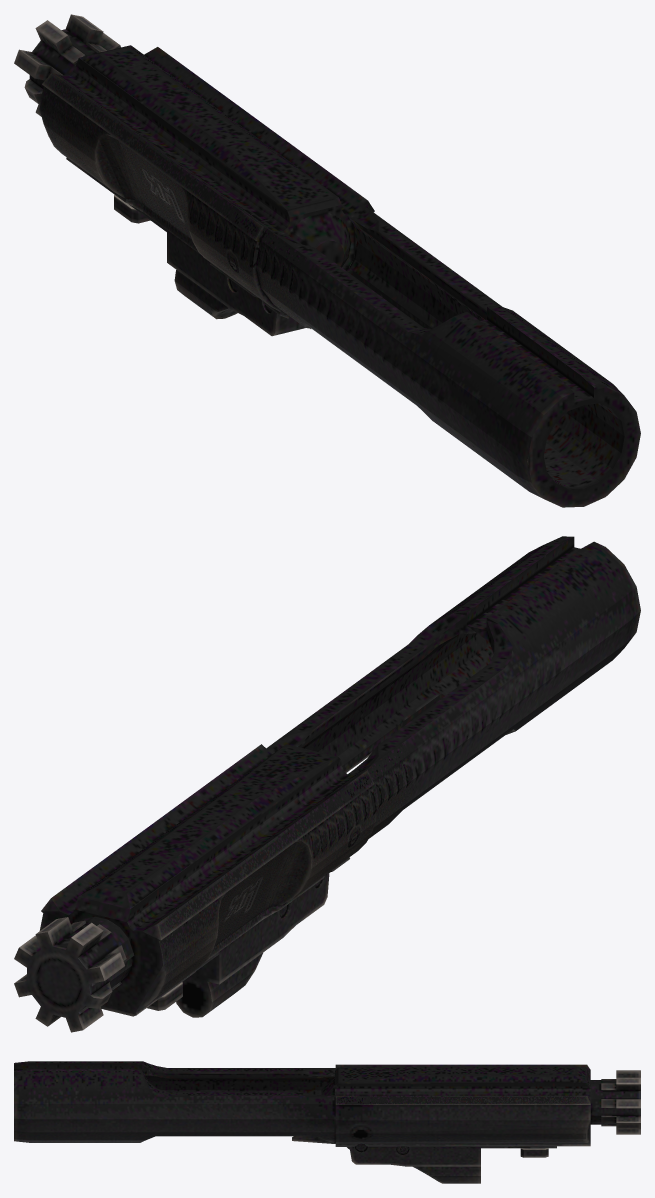
3 views of the same model, one above another, from view 1: azimuth 30°, elevation 25°; view 2: azimuth 150°, elevation 25°; view 3: azimuth 270°, elevation 25° (orthographic). The views are drawn at different scales.
Parts seen in each view (by area): view 1: TW_5bb2475ed4351e00853264e3_PZ_Import; view 2: TW_5bb2475ed4351e00853264e3_PZ_Import; view 3: TW_5bb2475ed4351e00853264e3_PZ_Import.
Boxes of the visible parts, x1,y1,x2,y2 form: TW_5bb2475ed4351e00853264e3_PZ_Import: (14,14,640,507); TW_5bb2475ed4351e00853264e3_PZ_Import: (14,536,640,1032); TW_5bb2475ed4351e00853264e3_PZ_Import: (14,1061,640,1183).
Bounding box in the file's own units: 0.0143 × 0.1043 × 0.0213.
1 material, 1 textured.
